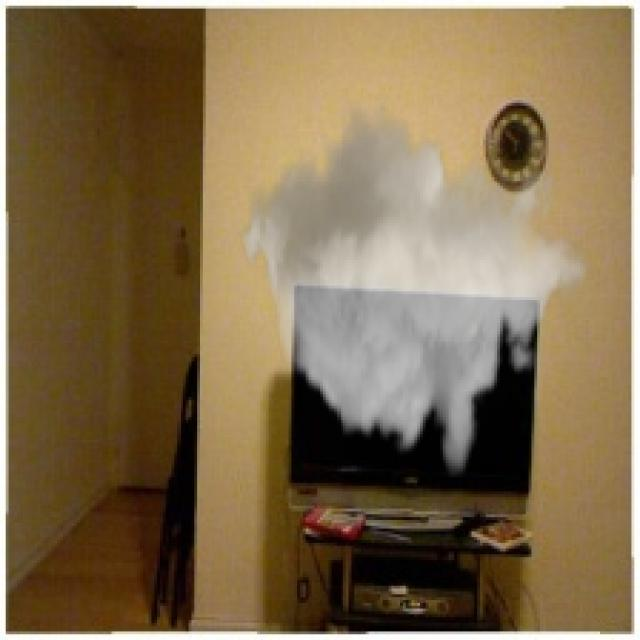smoke: (237, 94, 589, 477)
